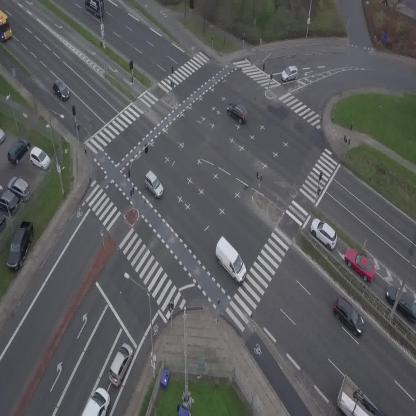bus: (0, 10, 12, 42)
car: (340, 242, 382, 286), (328, 295, 370, 337), (103, 340, 137, 388), (305, 214, 343, 252), (139, 170, 169, 200), (82, 387, 110, 416), (223, 98, 252, 125), (49, 78, 73, 102), (279, 64, 300, 83)
lorry: (206, 235, 254, 285), (85, 0, 105, 17)
